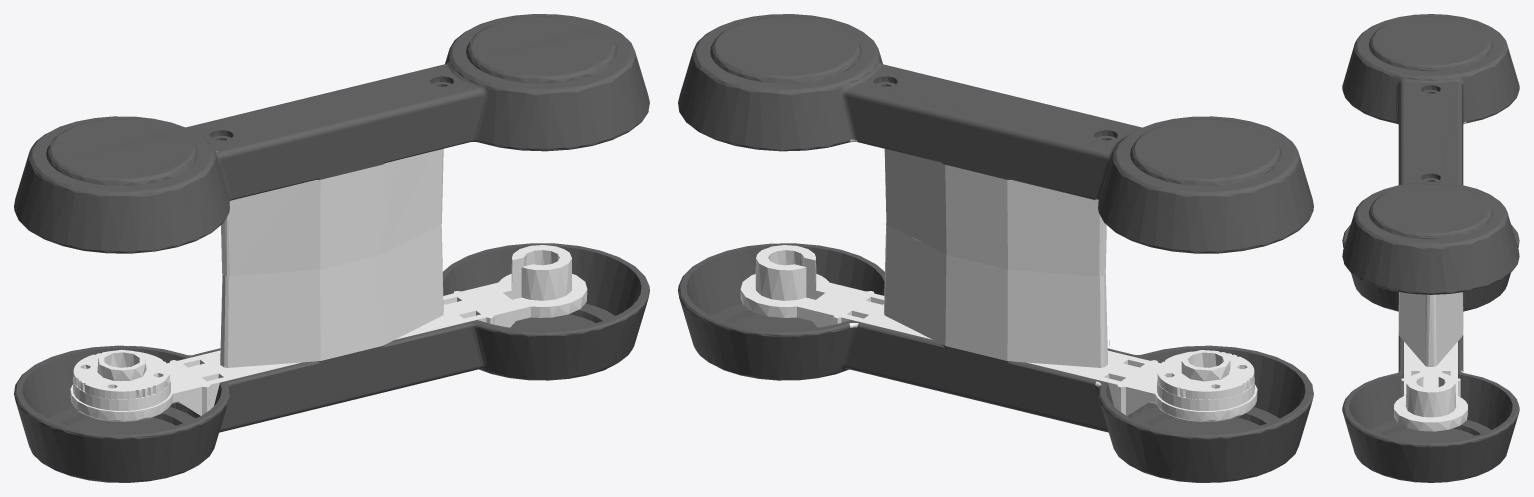
Rendered from scara_id1.dae.
3 renders of one model, left to right at view 1: azimuth 30°, elevation 25°; view 2: azimuth 150°, elevation 25°; view 3: azimuth 270°, elevation 25°, orthographic. The views are drawn at different scales.
Visible parts, largest first — view 1: ID1; view 2: ID1; view 3: ID1.
Part boxes in pixels (x1,y1,x2,y2): ID1: [14, 14, 649, 482]; ID1: [678, 14, 1313, 482]; ID1: [1342, 14, 1519, 482].
Bounding box in the file's own units: 0.1157 × 0.0356 × 0.055.
1 material, 1 textured.
